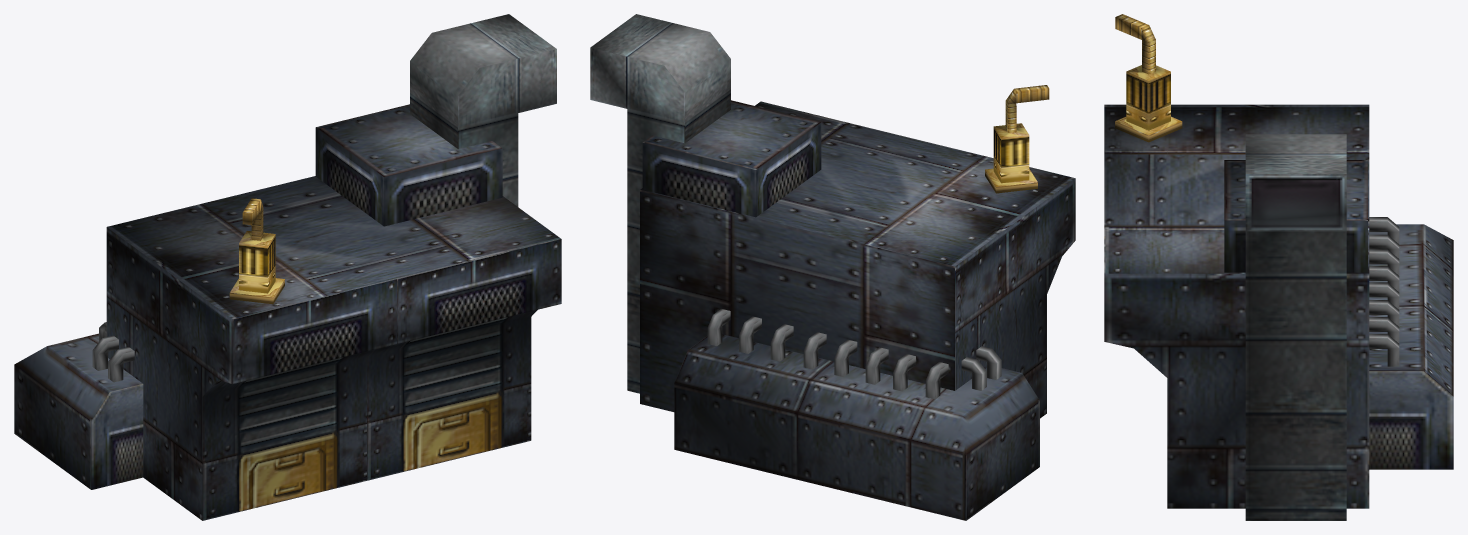
File: a_tunnelmachine03.glb
The picture shows the model from 3 angles, left to right: view 1: azimuth 30°, elevation 25°; view 2: azimuth 150°, elevation 25°; view 3: azimuth 270°, elevation 25°; orthographic projection. The views are drawn at different scales.
Visible parts, largest first — view 1: a_tunnelmachine03; view 2: a_tunnelmachine03; view 3: a_tunnelmachine03.
Boxes of the visible parts, x1,y1,x2,y2 form: a_tunnelmachine03: (14,14,561,520); a_tunnelmachine03: (590,14,1075,520); a_tunnelmachine03: (1104,14,1453,520).
Bounding box in the file's own units: 2.87 × 2.16 × 1.87.
2 materials, 2 textured.
